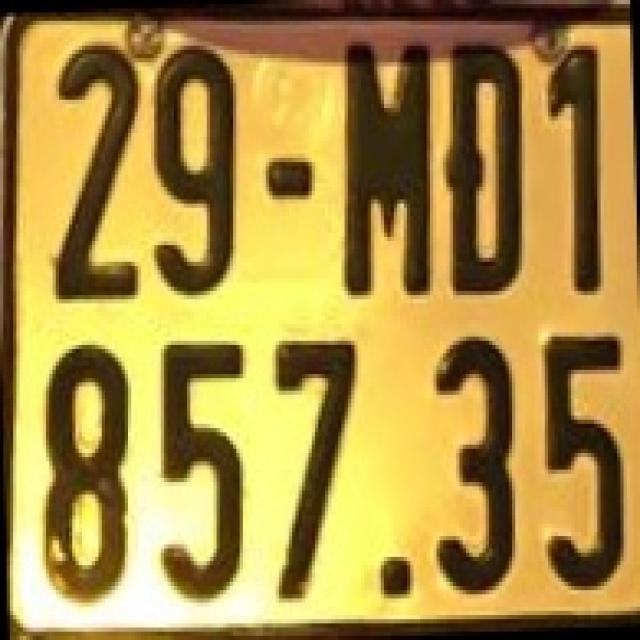1: (542, 37, 614, 295)
2: (42, 33, 144, 308)
3: (427, 332, 522, 594)
5: (154, 332, 250, 602), (538, 328, 630, 590)
7: (269, 328, 358, 603)
8: (36, 332, 135, 602)
9: (148, 38, 246, 300)
D: (442, 38, 528, 300)
M: (338, 29, 443, 295)
